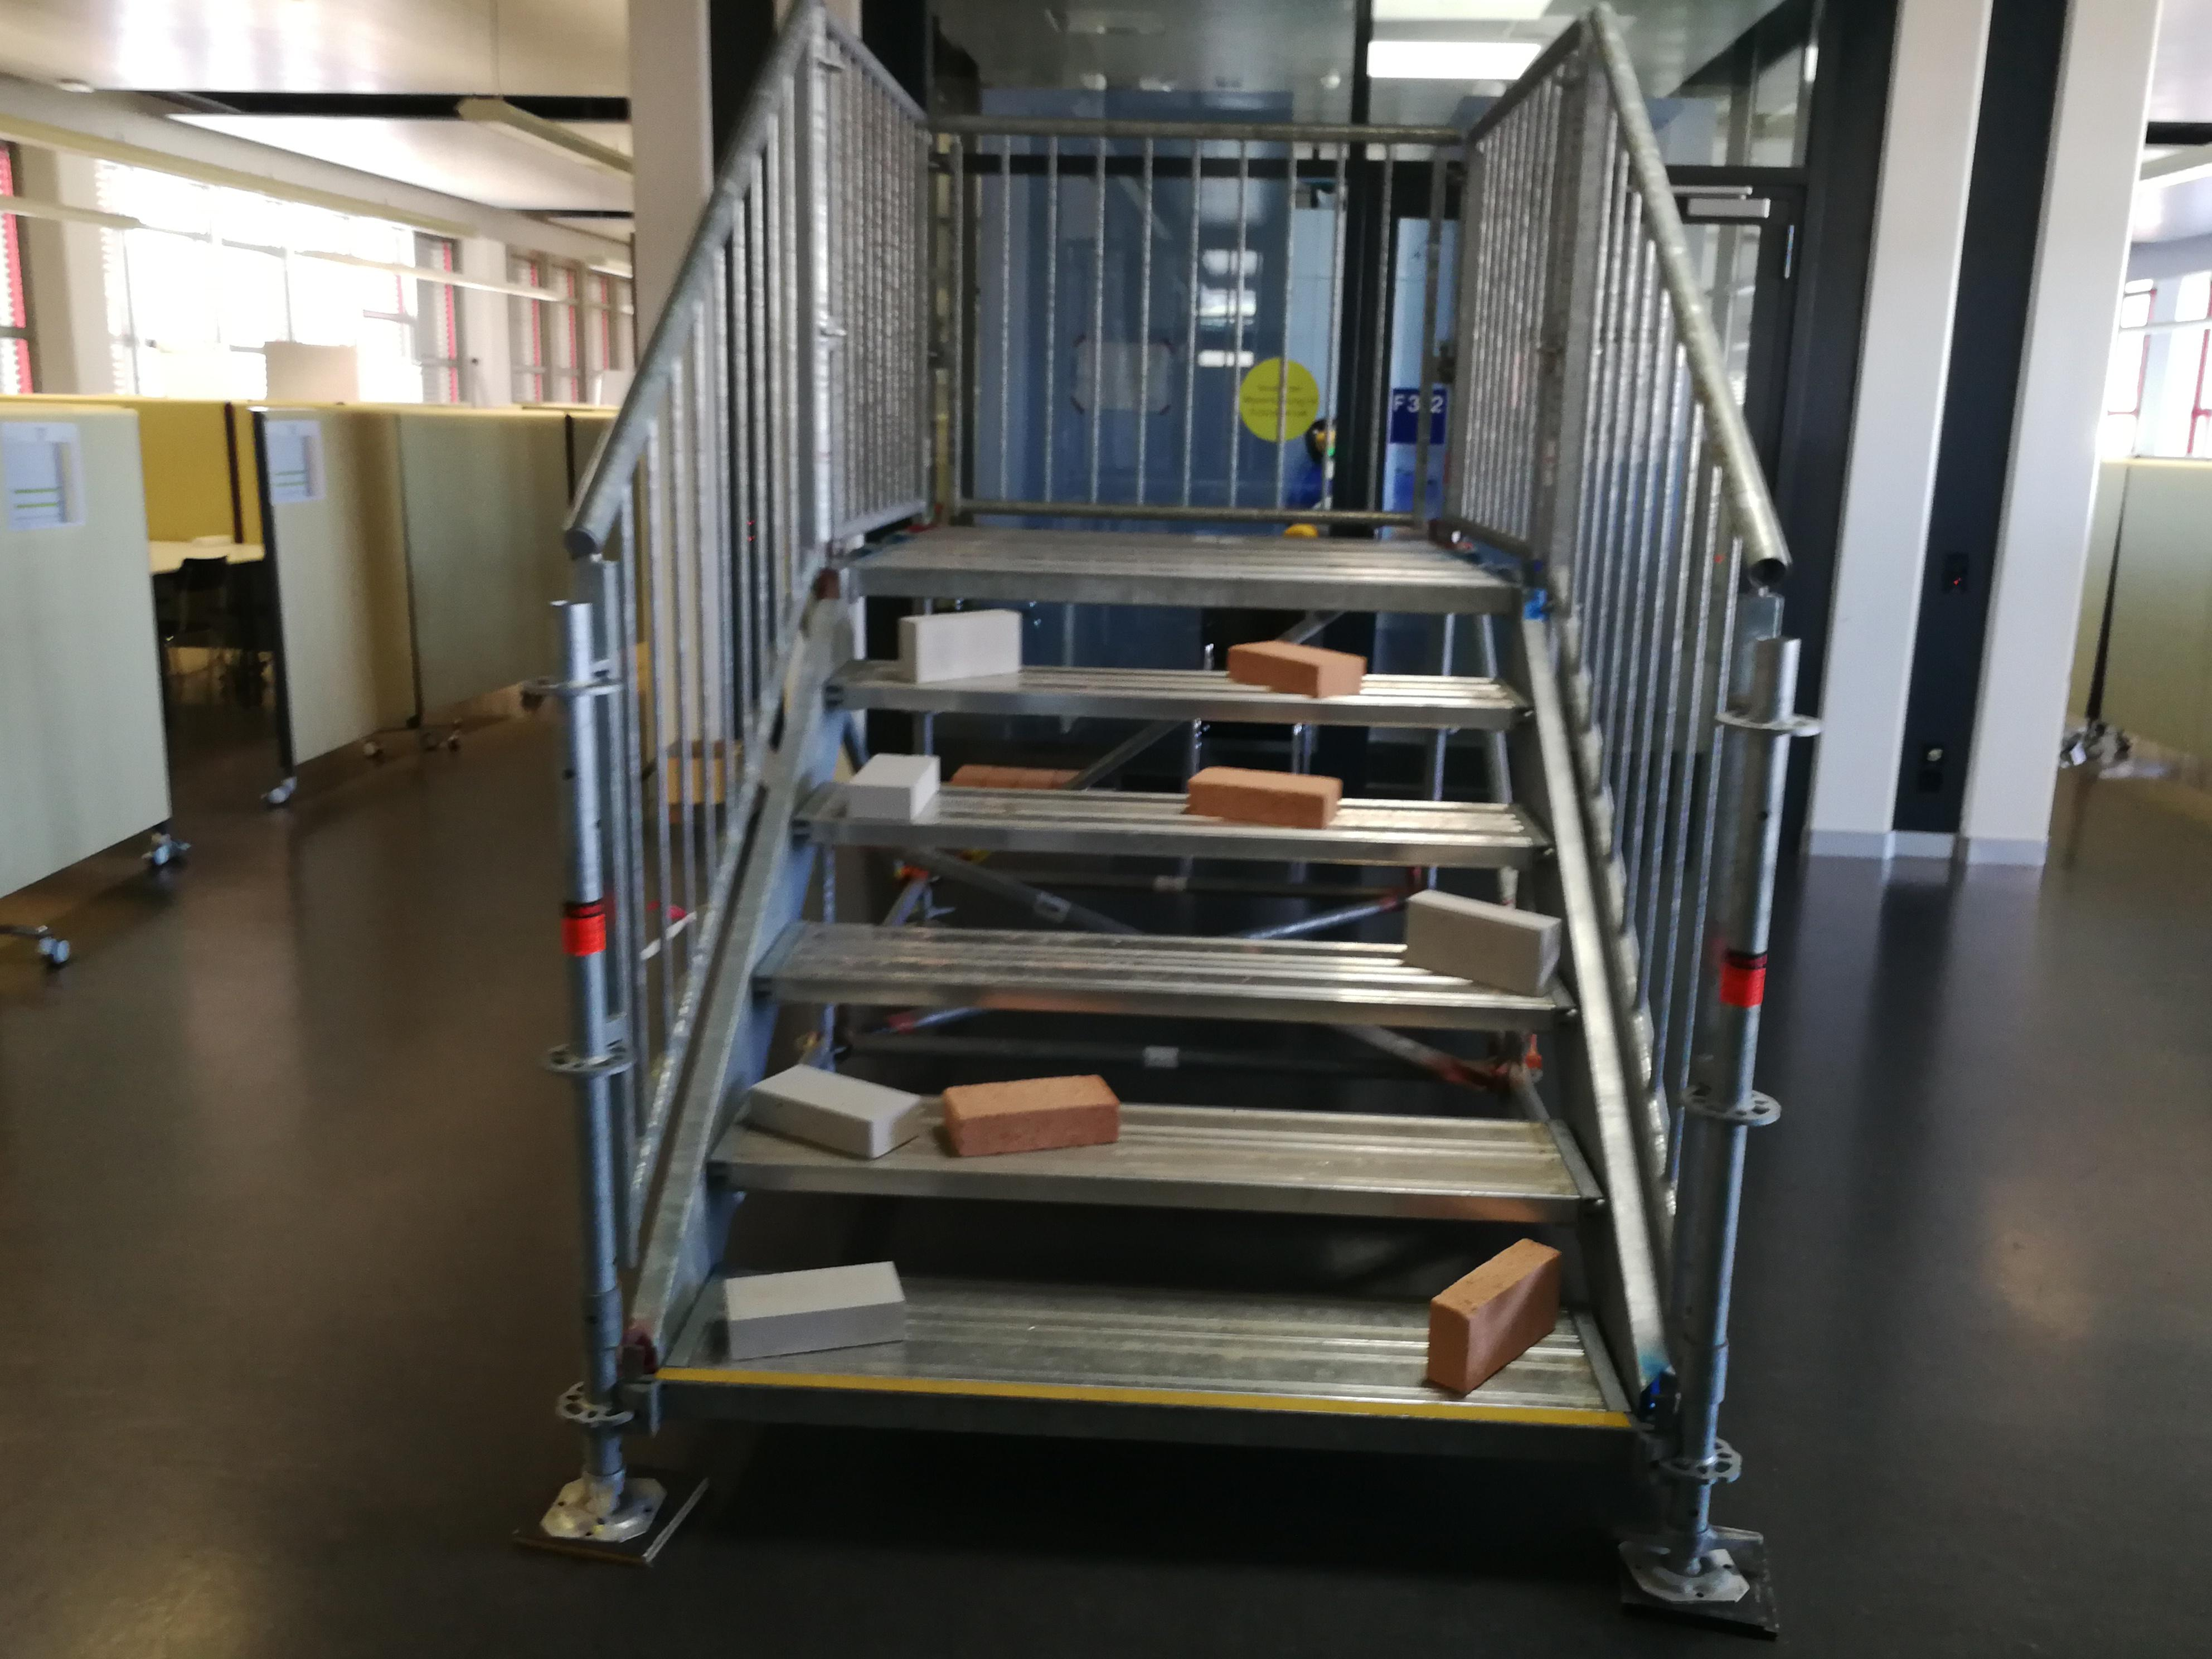brick: (1426, 1241, 1559, 1394), (726, 1262, 900, 1361), (749, 1061, 921, 1159), (948, 1073, 1115, 1169), (1407, 889, 1559, 990), (900, 606, 1017, 685), (1186, 767, 1339, 823), (1226, 638, 1362, 699), (843, 753, 939, 819)
edge: (658, 1344, 1634, 1476), (705, 1155, 1606, 1237), (749, 964, 1576, 1040), (792, 812, 1555, 871), (822, 681, 1531, 732), (855, 565, 1517, 615)
stairs: (505, 9, 1827, 1638)
steps: (650, 538, 1658, 1499)
